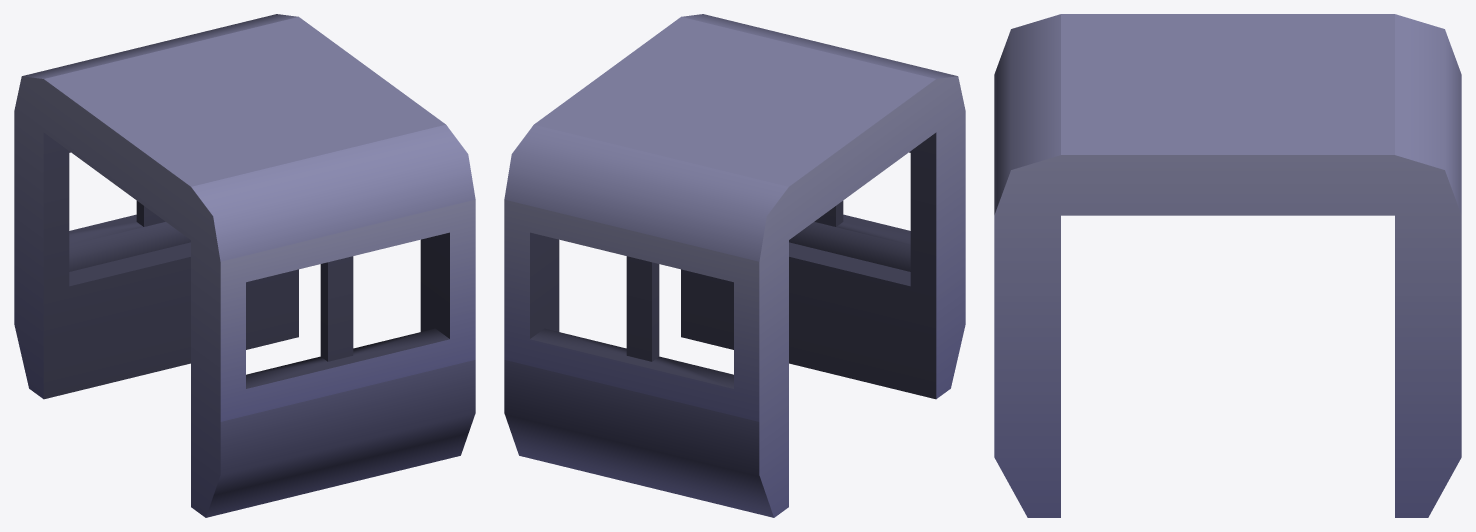
File: cover-bar.glb
3 renders of one model, left to right at view 1: azimuth 30°, elevation 25°; view 2: azimuth 150°, elevation 25°; view 3: azimuth 270°, elevation 25°, orthographic. The views are drawn at different scales.
Parts seen in each view (by area): view 1: cover-bar; view 2: cover-bar; view 3: cover-bar.
Boxes of the visible parts, x1,y1,x2,y2 form: cover-bar: (14,14,475,517); cover-bar: (504,14,965,517); cover-bar: (994,14,1461,517).
Size of the model in its own units: 1 by 1.2 by 1.4.
